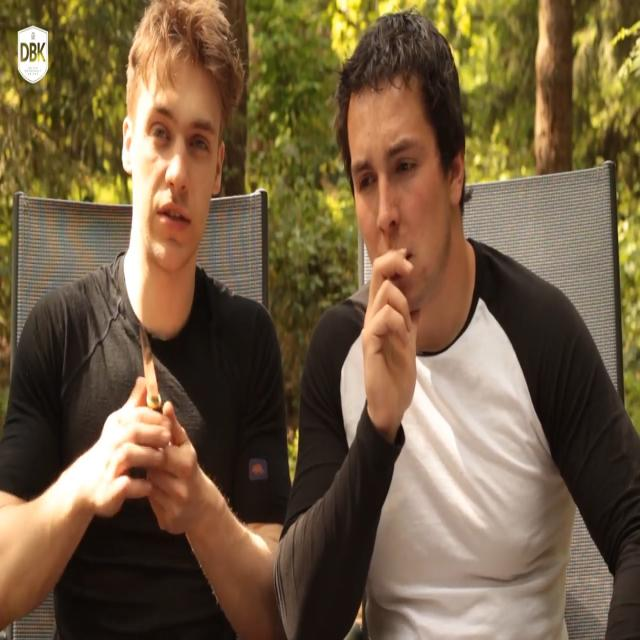knife: (138, 314, 166, 423)
